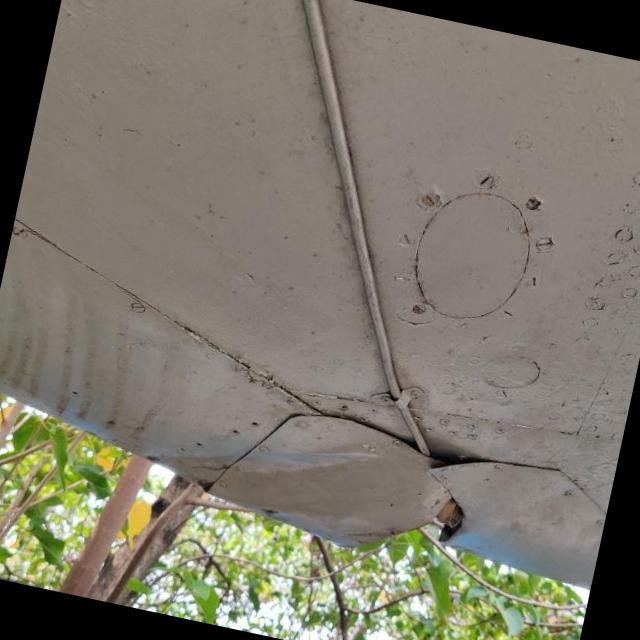Dent: (210, 417, 416, 546)
